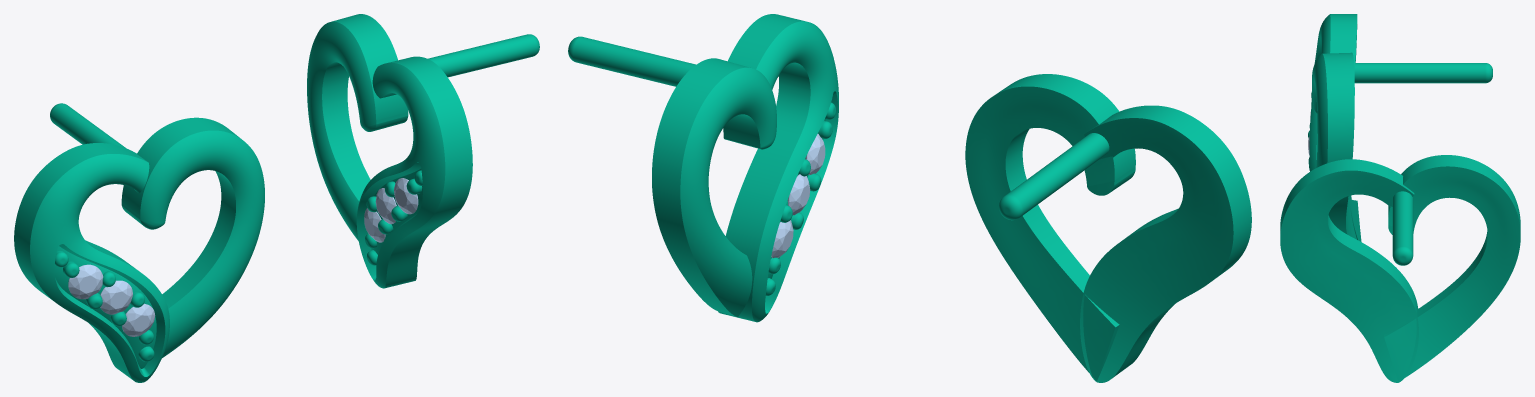
3 renders of one model, left to right at view 1: azimuth 30°, elevation 25°; view 2: azimuth 150°, elevation 25°; view 3: azimuth 270°, elevation 25°, orthographic. The views are drawn at different scales.
Parts seen in each view (by area): view 1: VEAR714.3dm, Diamond_Round (×6); view 2: VEAR714.3dm, Diamond_Round (×2); view 3: VEAR714.3dm.
Part boxes in pixels (x1,y1,x2,y2): VEAR714.3dm: (14, 14, 539, 382); Diamond_Round (×6): (68, 178, 418, 336); VEAR714.3dm: (568, 14, 1251, 382); Diamond_Round (×2): (771, 174, 810, 257); VEAR714.3dm: (1280, 14, 1520, 382).
Bounding box in the file's own units: 3.43 × 1.43 × 1.47.
